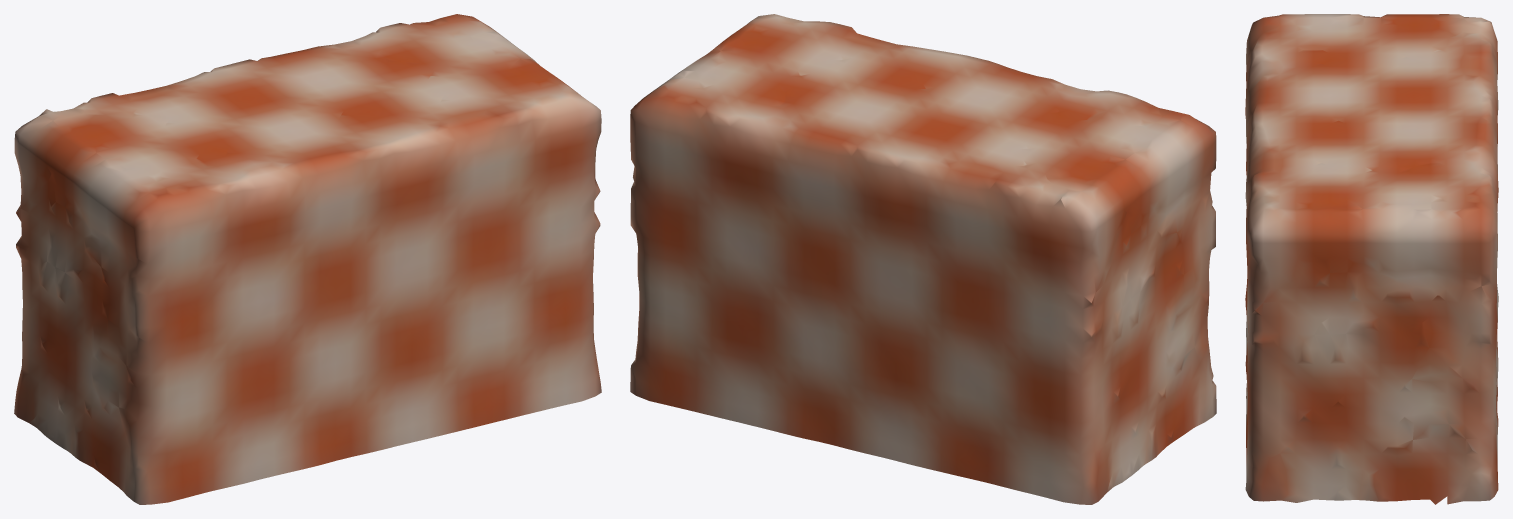
Rendered from synthetic-box.glb.
3 views of the same model, side by side, from view 1: azimuth 30°, elevation 25°; view 2: azimuth 150°, elevation 25°; view 3: azimuth 270°, elevation 25° (orthographic). The views are drawn at different scales.
Parts seen in each view (by area): view 1: scan; view 2: scan; view 3: scan.
Part boxes in pixels (bbox=[...]): scan: bbox=[14, 14, 601, 504]; scan: bbox=[630, 14, 1216, 504]; scan: bbox=[1245, 14, 1498, 504].
Size of the model in its own units: 0.1215 by 0.0755 by 0.0606.
